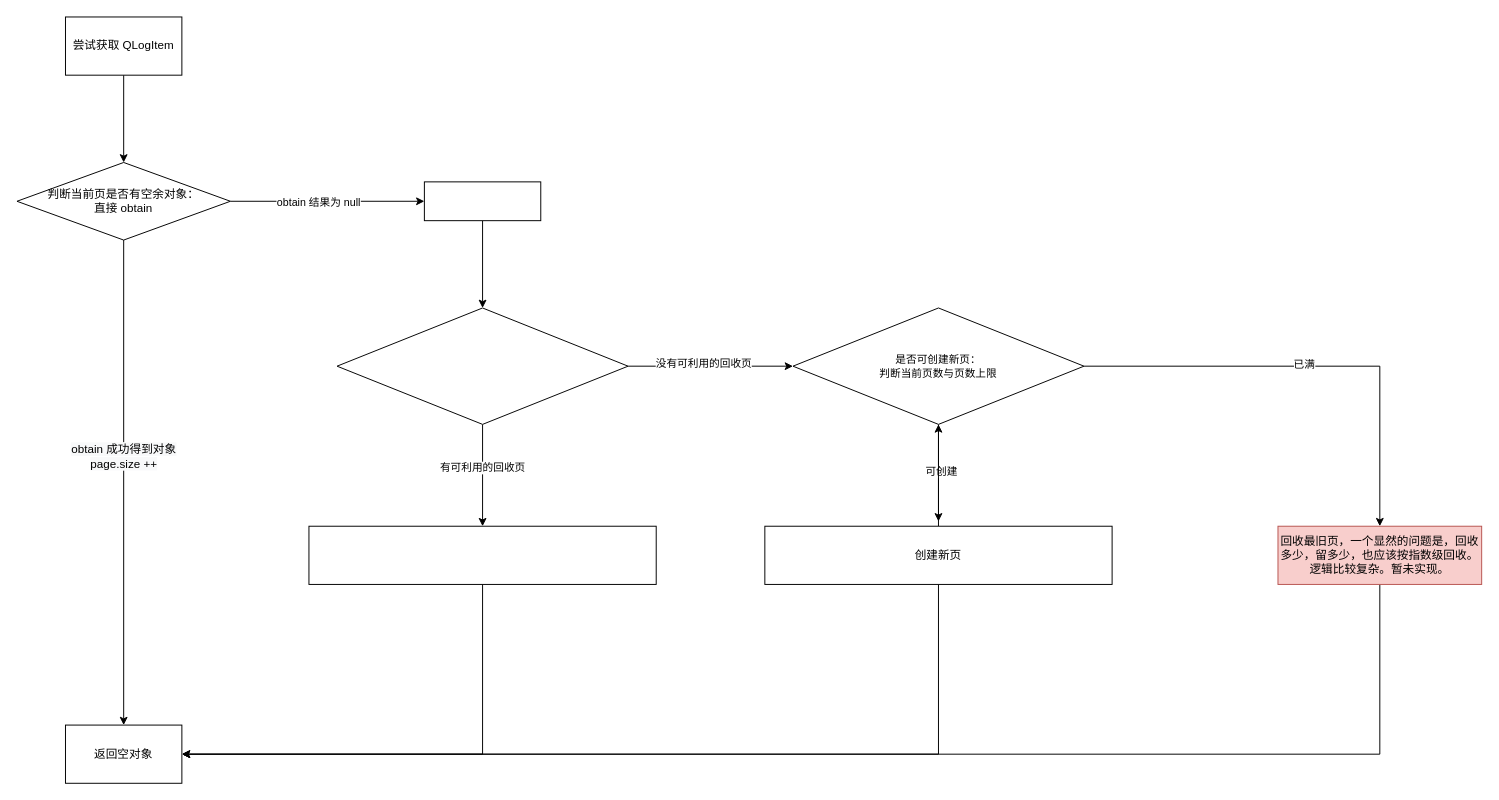
The diagram is 1499 pixels wide and 800 high, and some of its shapes have lost their labels. Each missing label, with the centre of its shape:
"尝试获取新页" belongs at [482,201].
"是否有可利用的已回收页： 判断当前总对象数量与已利用的数量。" belongs at [482,365].
"返回可利用页" belongs at [482,554].
